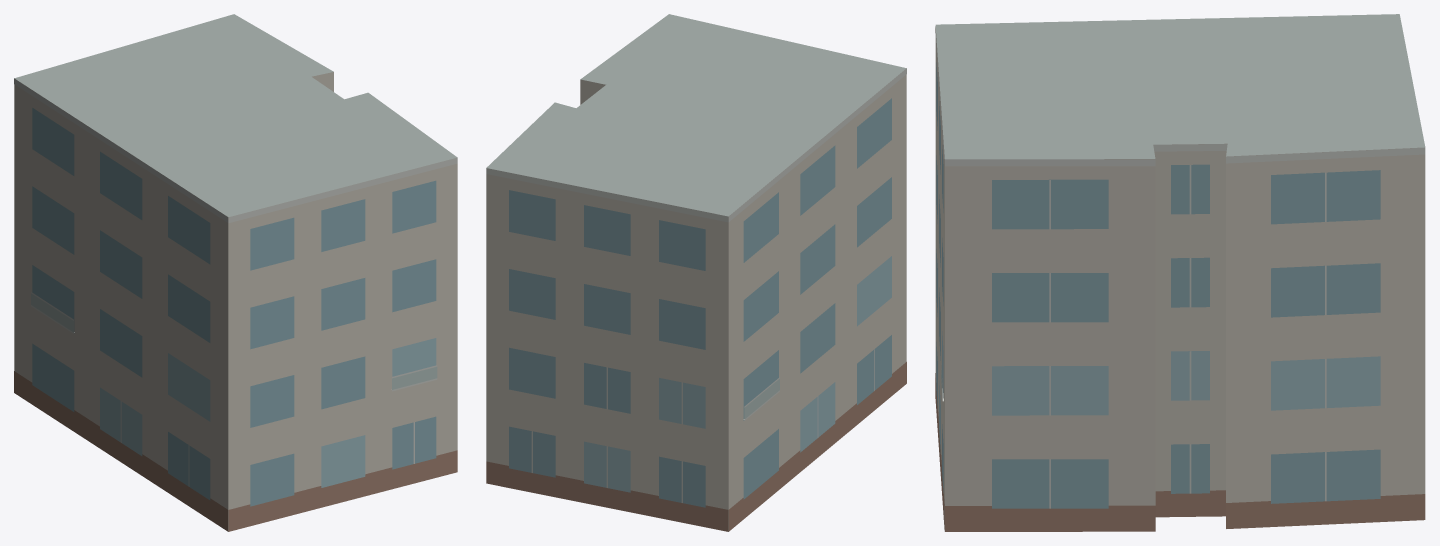
The model's file is survey-upis-32626956.glb.
3 views of the same model, side by side, from view 1: azimuth 30°, elevation 25°; view 2: azimuth 150°, elevation 25°; view 3: azimuth 270°, elevation 25° (orthographic). The views are drawn at different scales.
Parts seen in each view (by area): view 1: survey-upis-32626956.tmp; view 2: survey-upis-32626956.tmp; view 3: survey-upis-32626956.tmp.
Boxes of the visible parts, x1=… form: survey-upis-32626956.tmp: x1=14, y1=14, x2=457, y2=531; survey-upis-32626956.tmp: x1=486, y1=14, x2=906, y2=531; survey-upis-32626956.tmp: x1=935, y1=14, x2=1425, y2=531.
Bounding box in the file's own units: 10.72 × 12.8 × 15.27.
